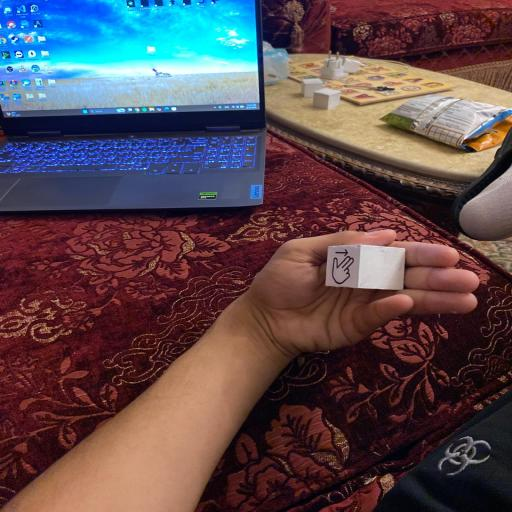RightSwipe: (326, 244, 406, 291)
